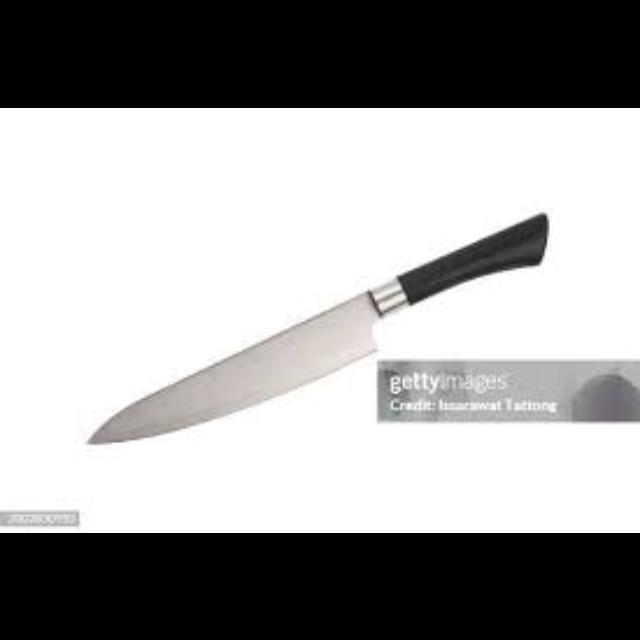knife: (84, 210, 550, 444)
